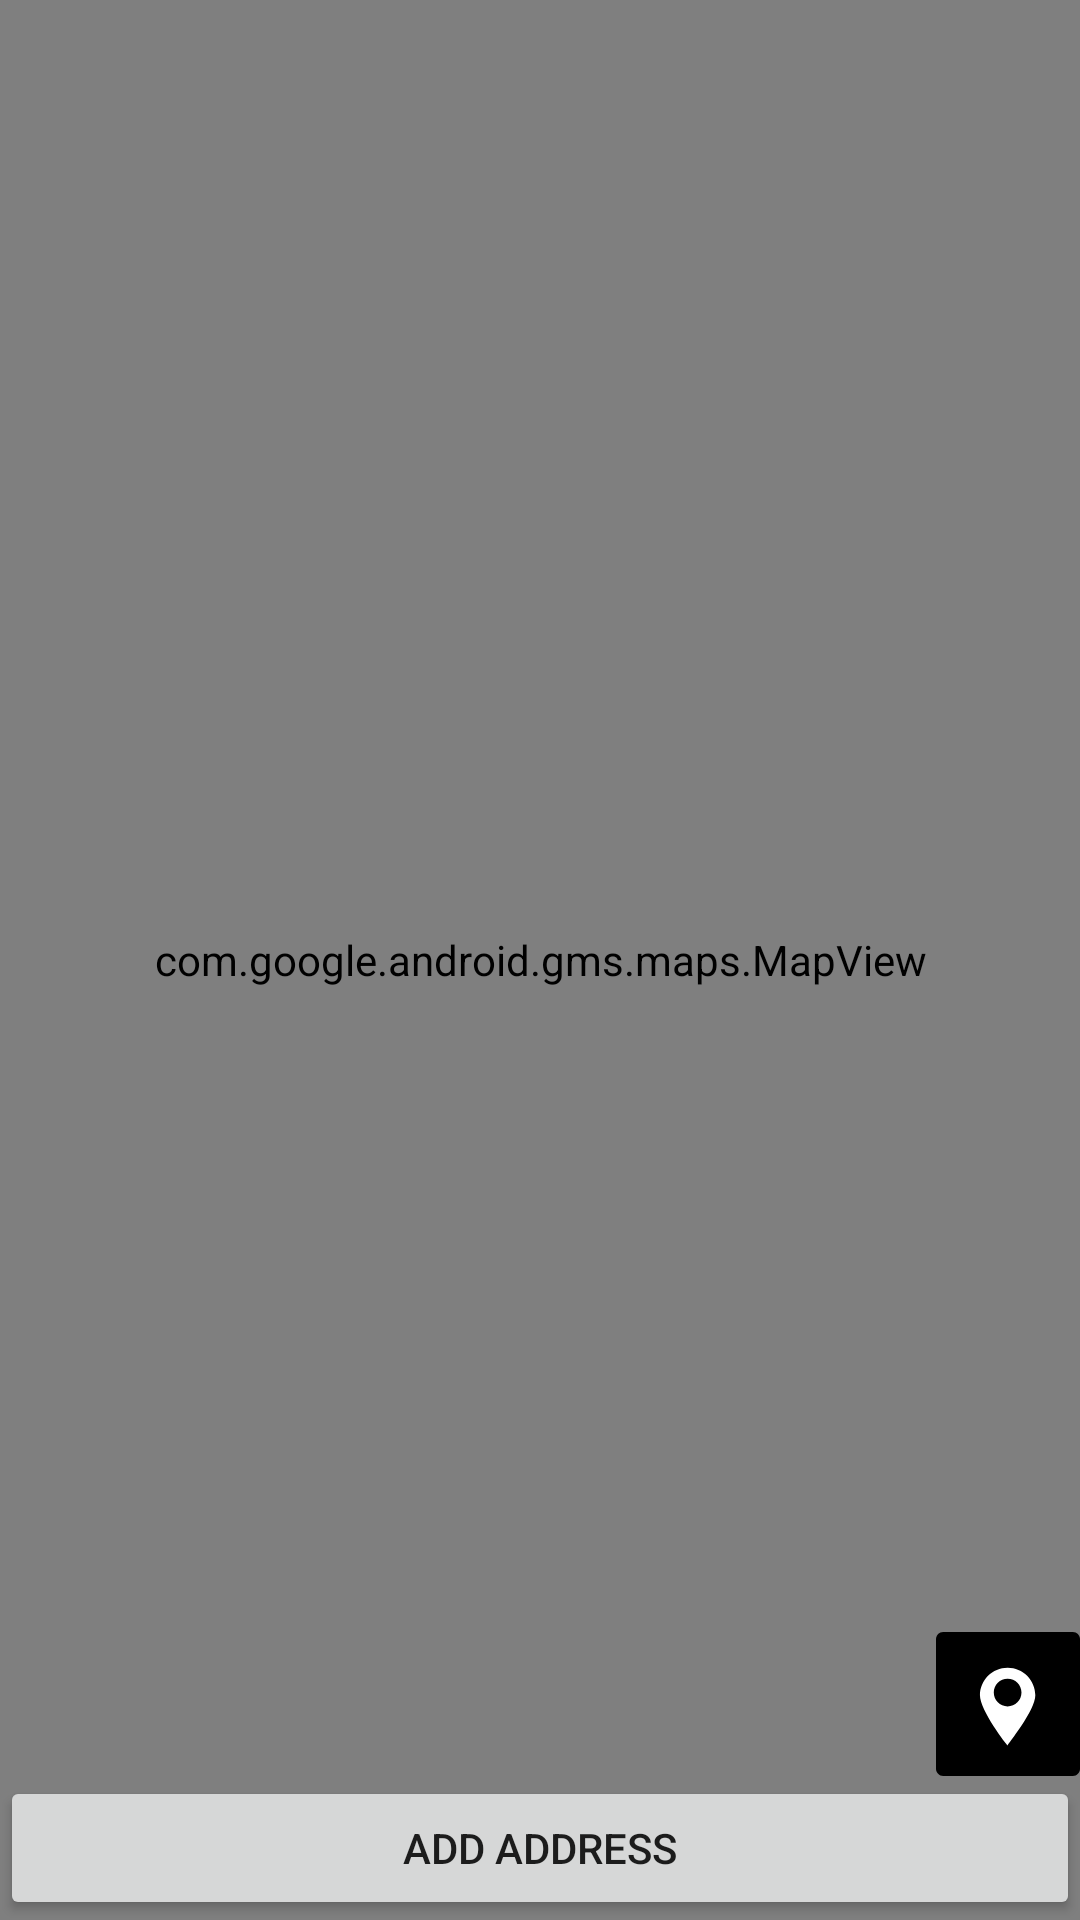

Named icons in this screenshot (1080 x 1920) and their centers, point (x, y):
current loc: point (1008, 1704)
